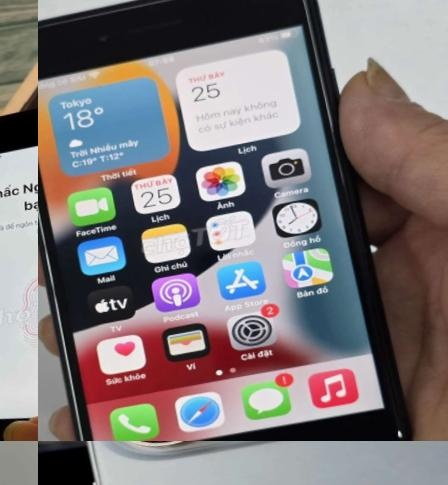scratch: (38, 120, 97, 441)
screen_defect: (394, 428, 407, 439)
